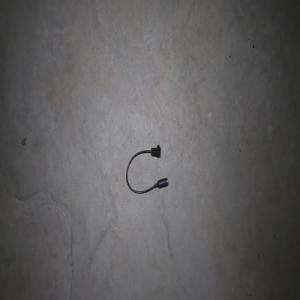Wire: (125, 144, 168, 193)
